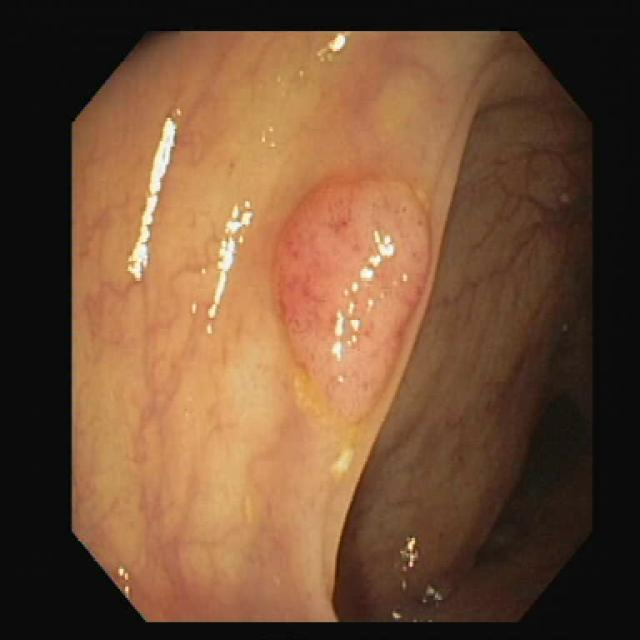tumor: (277, 164, 430, 420)
